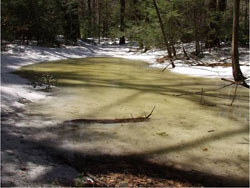leaves: (66, 168, 204, 188)
tree: (222, 1, 250, 84), (191, 1, 220, 61), (113, 1, 129, 46), (67, 1, 84, 43)
water: (24, 56, 250, 177)
